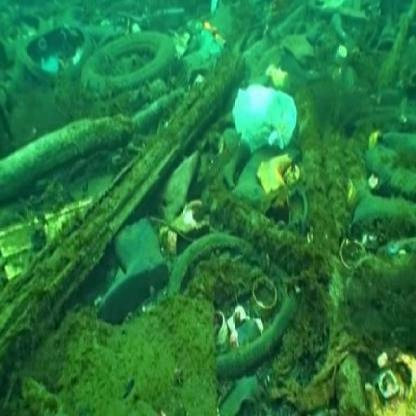plastic: (223, 63, 313, 175)
rod: (16, 64, 231, 296)
